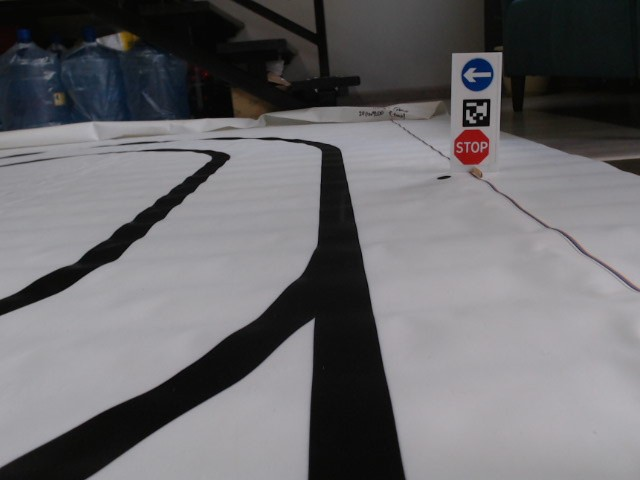Stop: (454, 128, 490, 164)
